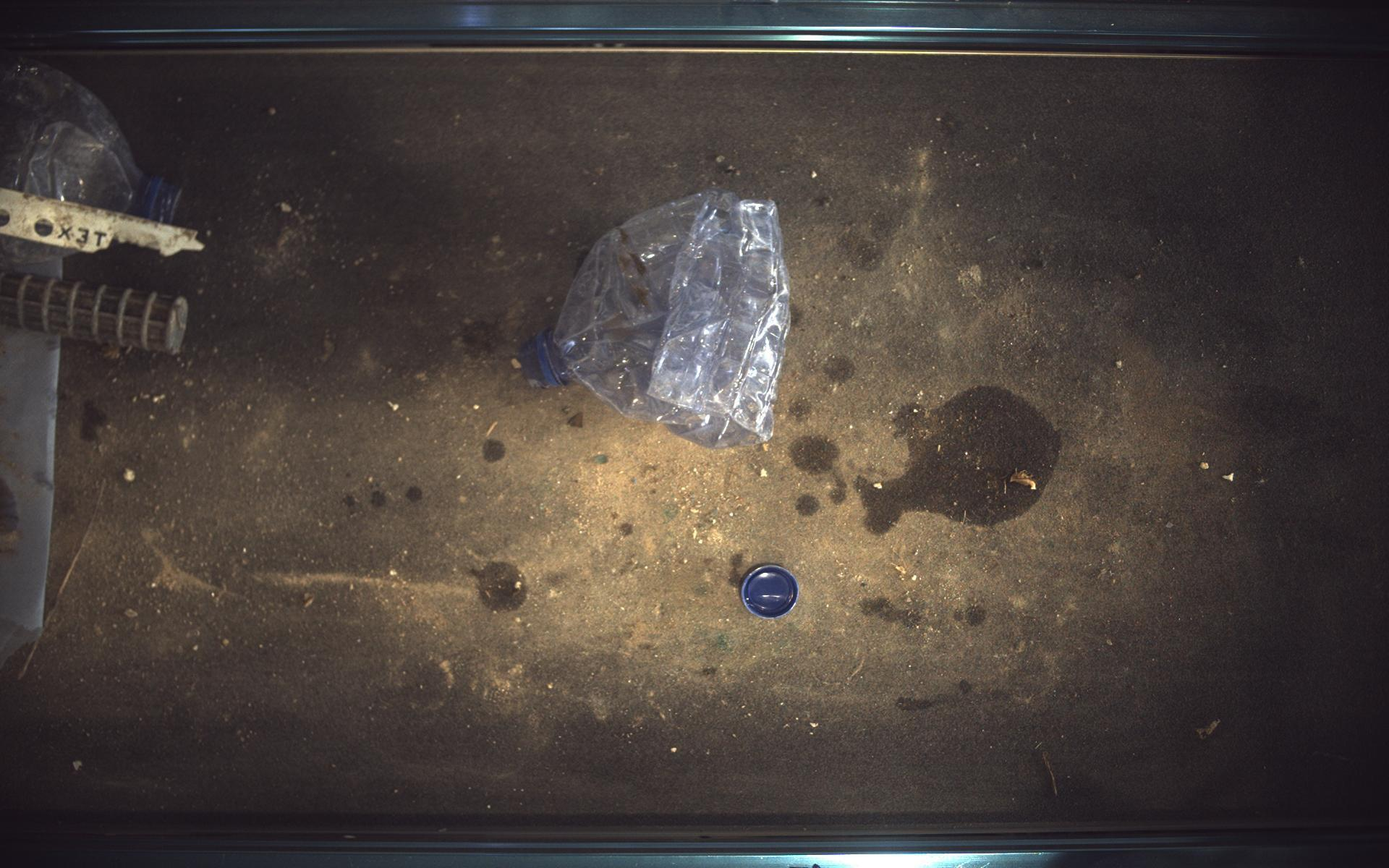general_w: (519, 189, 791, 448), (742, 566, 801, 619)
